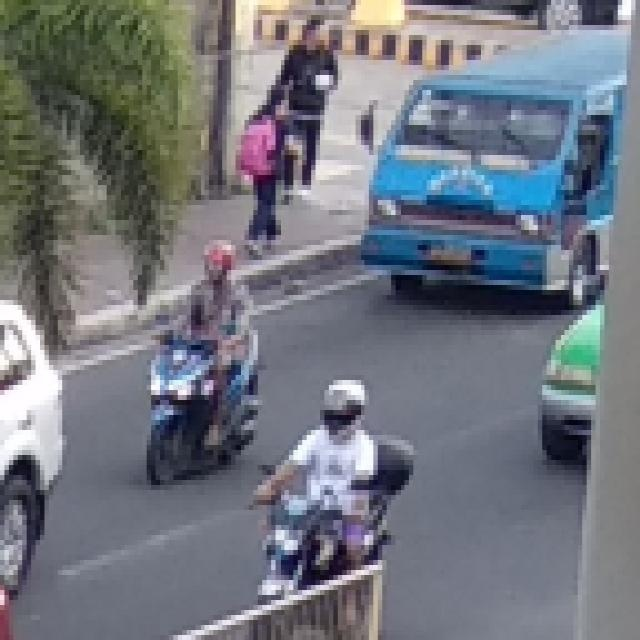Motorcycle: (244, 372, 406, 640), (135, 239, 267, 490)
